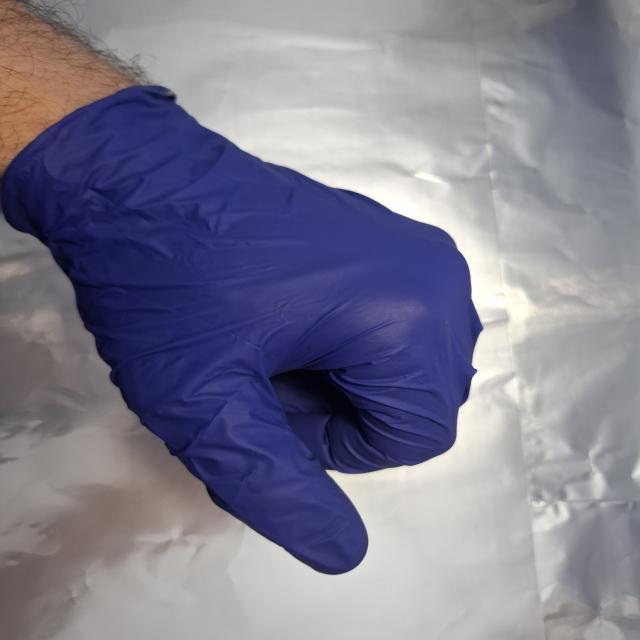glove_on: (7, 83, 488, 577)
